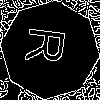R: (25, 25, 75, 67)
